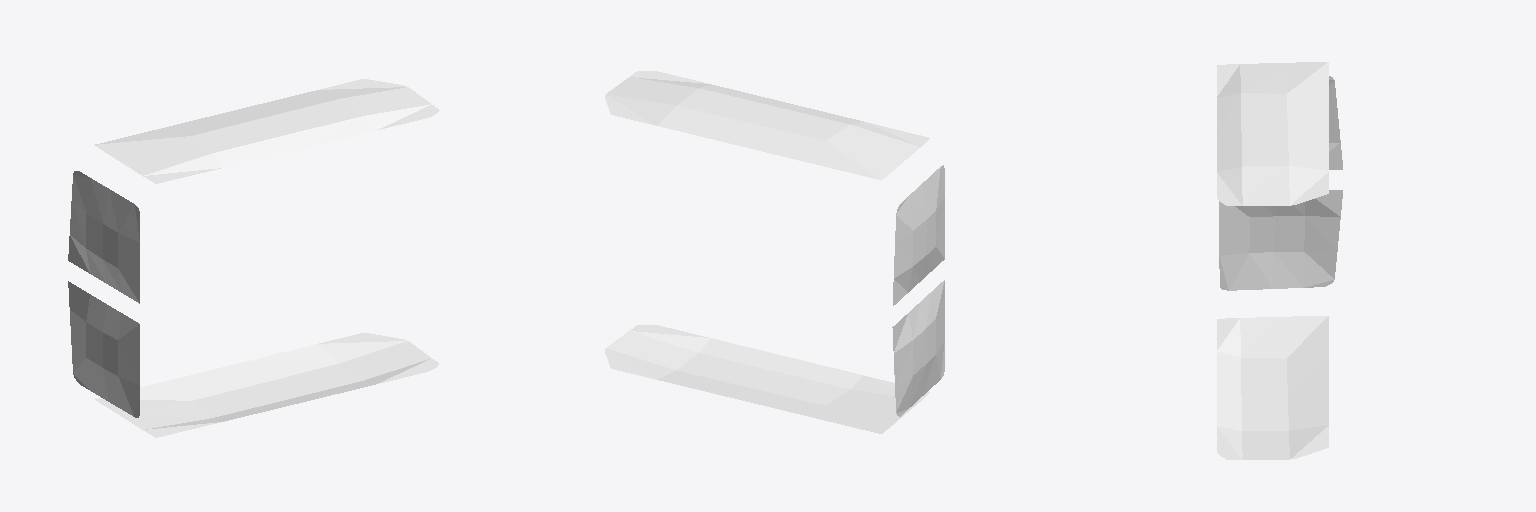
The model's file is EuropeanVan_RearWindows.obj.
3 renders of one model, left to right at view 1: azimuth 30°, elevation 25°; view 2: azimuth 150°, elevation 25°; view 3: azimuth 270°, elevation 25°, orthographic.
Parts seen in each view (by area): view 1: RearWindows; view 2: RearWindows; view 3: RearWindows.
Part boxes in pixels (bbox=[...]): RearWindows: bbox=[68, 79, 439, 437]; RearWindows: bbox=[605, 71, 944, 433]; RearWindows: bbox=[1217, 62, 1342, 459].
Size of the model in its own units: 2.22 by 1.79 by 0.7749.